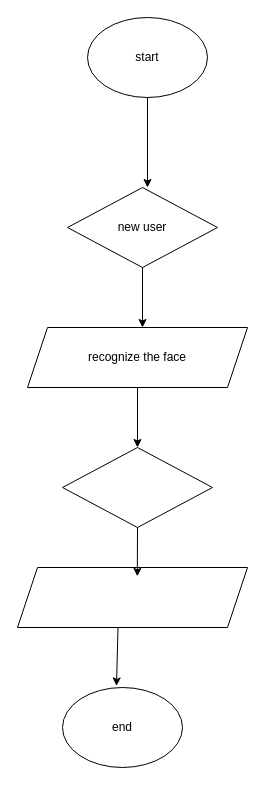
The diagram is 265 pixels wide and 785 high, and some of its shapes have lost their labels. Here are the shapes that lost their labels. From the top down, the centre of each, then its label:
the point at 137,487: face recognized
the point at 132,597: stored in csv files registration numbers and date time entry
